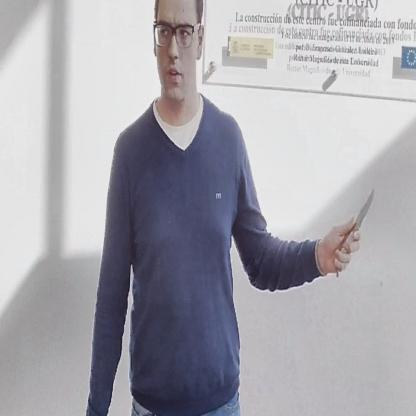knife: (333, 180, 378, 280)
